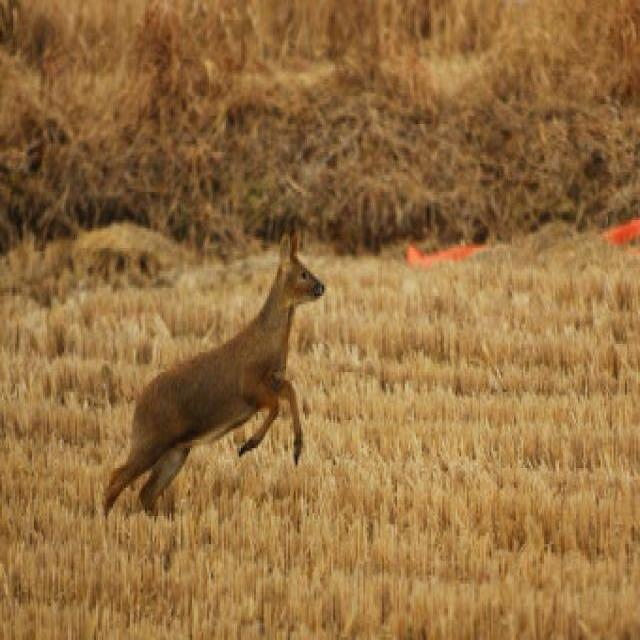deer: (78, 188, 346, 556)
